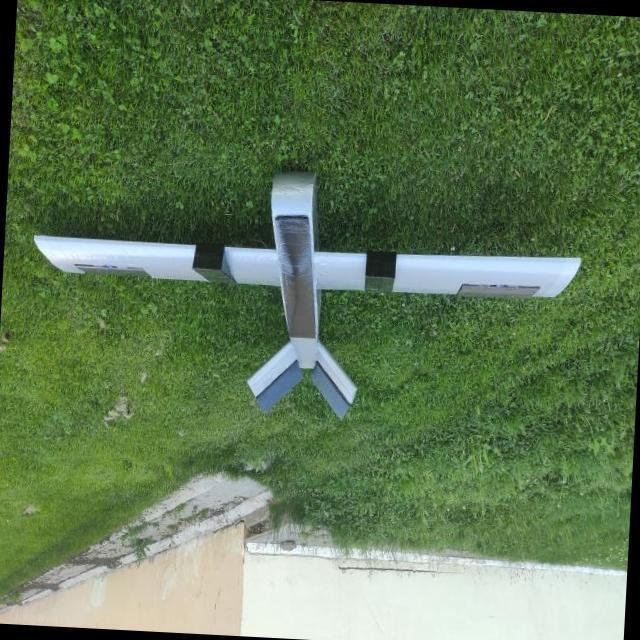iha: (14, 156, 595, 451)
